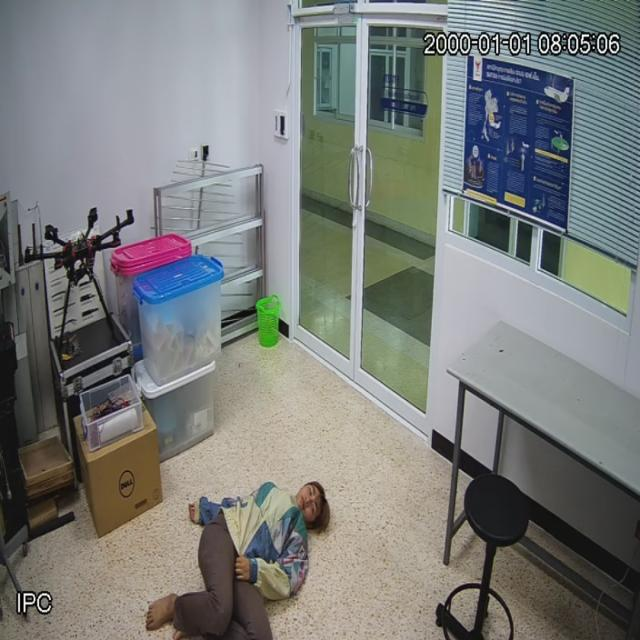fall: (142, 473, 338, 640)
